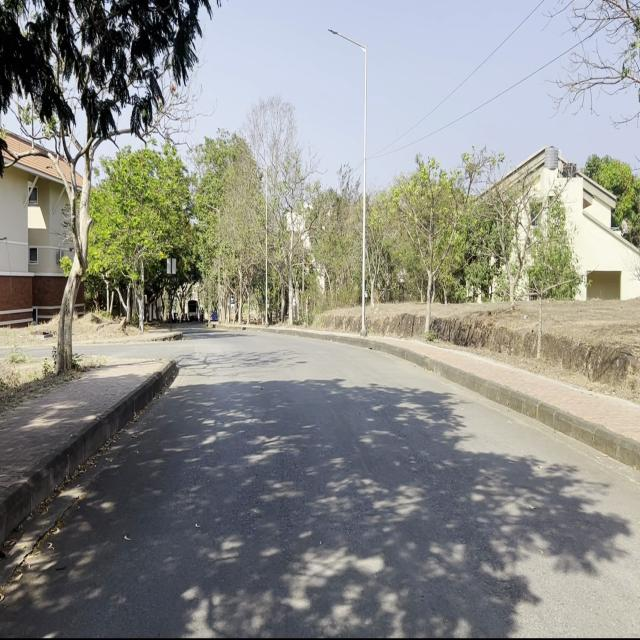Road: (2, 329, 637, 635)
